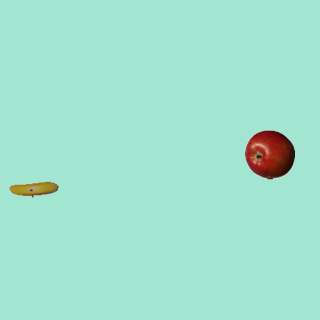Apple Braeburn: (244, 129, 294, 179)
Banana: (8, 164, 58, 214)
